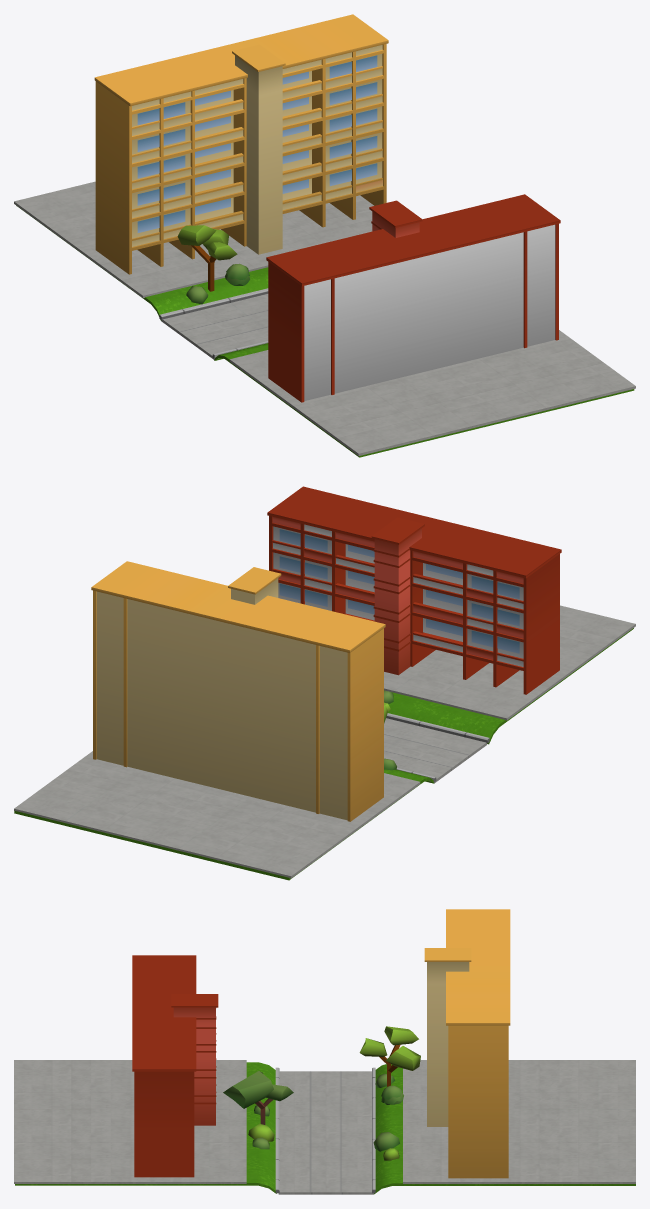
The model's file is Level 3 Chunk 4 V2.fbx.
3 views of the same model, one above another, from view 1: azimuth 30°, elevation 25°; view 2: azimuth 150°, elevation 25°; view 3: azimuth 270°, elevation 25° (orthographic). The views are drawn at different scales.
Visible parts, largest first — view 1: polySurface1209, polySurface668, pCube13889, pCube13898, pCube13897, pCube13896, pCube13903, pCube13900, pCube13902; view 2: polySurface1209, polySurface668, pCube13898, pCube13889, pCube13897, pCube13900, pCube13896, pCube13887; view 3: polySurface1209, pCube13898, pCube13889, polySurface668, pCube13897, pCube13896, pCube13900, pCube13903, polySurface54, pCube13887, pCube13902.
Boxes of the visible parts, <box> form: polySurface1209: <box>94,14,388,274</box>; polySurface668: <box>266,194,560,402</box>; pCube13889: <box>229,330,635,455</box>; pCube13898: <box>14,181,373,298</box>; pCube13897: <box>161,294,268,359</box>; pCube13896: <box>16,205,268,320</box>; pCube13903: <box>177,225,237,291</box>; pCube13900: <box>214,343,634,457</box>; pCube13902: <box>159,288,268,320</box>; polySurface1209: <box>91,561,385,821</box>; polySurface668: <box>267,486,561,694</box>; pCube13898: <box>14,751,420,878</box>; pCube13889: <box>384,605,635,720</box>; pCube13897: <box>384,718,486,783</box>; pCube13900: <box>388,628,633,744</box>; pCube13896: <box>14,769,434,880</box>; pCube13887: <box>386,713,489,743</box>; polySurface1209: <box>424,909,510,1178</box>; pCube13898: <box>403,1060,635,1183</box>; pCube13889: <box>14,1060,246,1183</box>; polySurface668: <box>132,955,218,1177</box>; pCube13897: <box>278,1071,373,1194</box>; pCube13896: <box>374,1064,635,1194</box>; pCube13900: <box>15,1062,276,1193</box>; pCube13903: <box>359,1026,420,1086</box>; polySurface54: <box>223,1071,293,1124</box>; pCube13887: <box>275,1067,279,1193</box>; pCube13902: <box>372,1067,375,1193</box>.
Bounding box in the file's own units: 12.41 × 8.52 × 26.6.
Materials: 2 (2 with a texture image).
